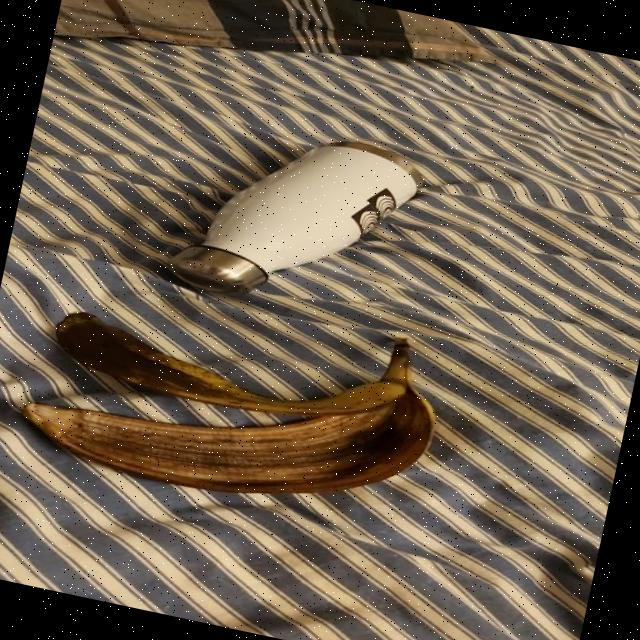banana-peel: (12, 259, 452, 535)
